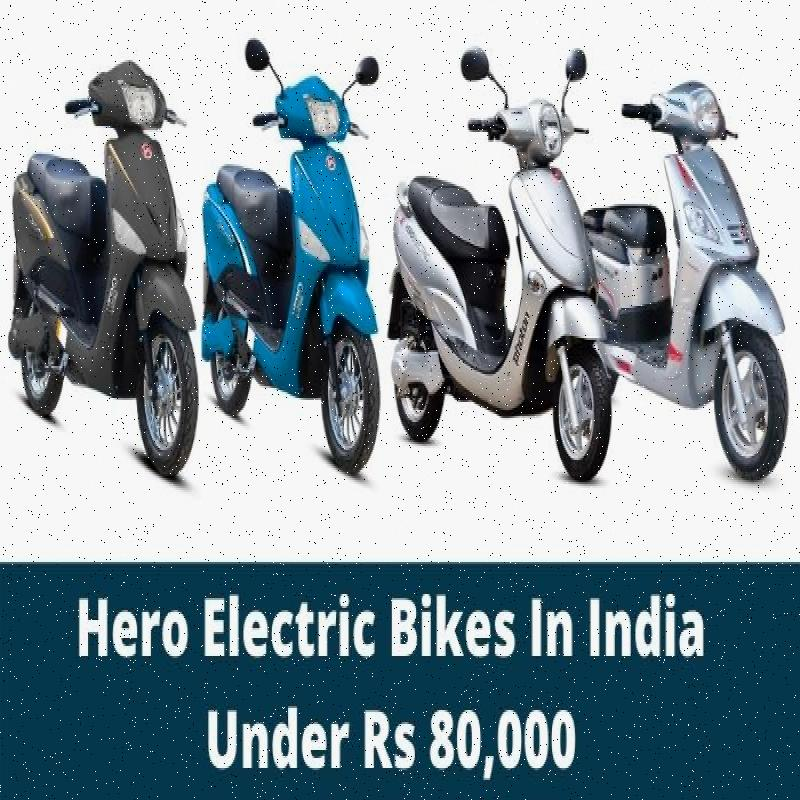bike: (381, 25, 633, 506), (582, 18, 790, 508), (2, 15, 199, 504), (192, 21, 388, 488)
